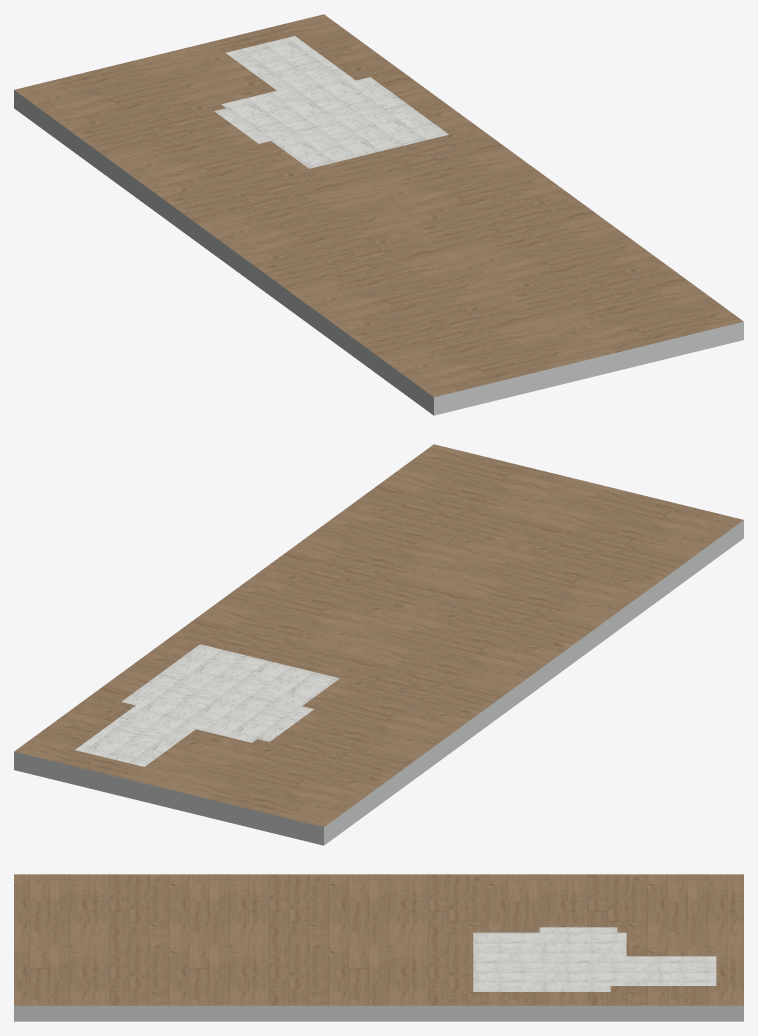
File: Floor.gltf
3 views of the same model, one above another, from view 1: azimuth 30°, elevation 25°; view 2: azimuth 150°, elevation 25°; view 3: azimuth 270°, elevation 25° (orthographic). The views are drawn at different scales.
Visible parts, largest first — view 1: Floor, Bathroomfloor, Floor_02; view 2: Floor, Bathroomfloor, Floor_02; view 3: Floor, Floor_02, Bathroomfloor.
Boxes of the visible parts, left/top/right/bottom form: Floor: left=14, top=14, right=743, bottom=397; Bathroomfloor: left=214, top=36, right=448, bottom=168; Floor_02: left=14, top=90, right=743, bottom=415; Floor: left=14, top=444, right=743, bottom=827; Bathroomfloor: left=75, top=644, right=339, bottom=766; Floor_02: left=14, top=520, right=743, bottom=845; Floor: left=14, top=874, right=743, bottom=1005; Floor_02: left=14, top=1005, right=743, bottom=1021; Bathroomfloor: left=473, top=927, right=716, bottom=991.
Bounding box in the file's own units: 3.52 × 0.21 × 8.26.
Materials: 3 (2 with a texture image).
